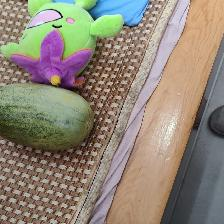gua: (9, 84, 81, 143)
